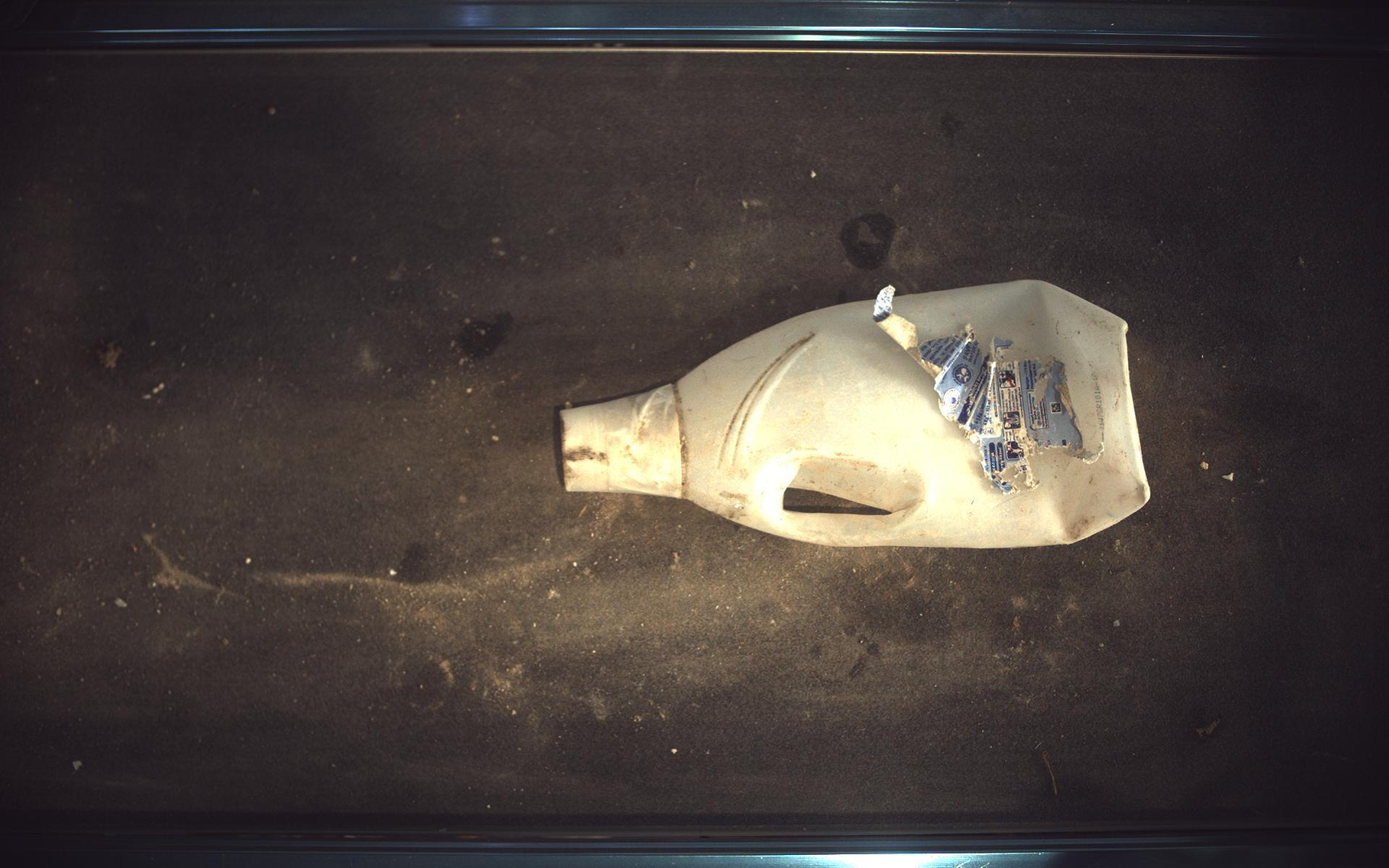general_w: (561, 280, 1152, 548)
